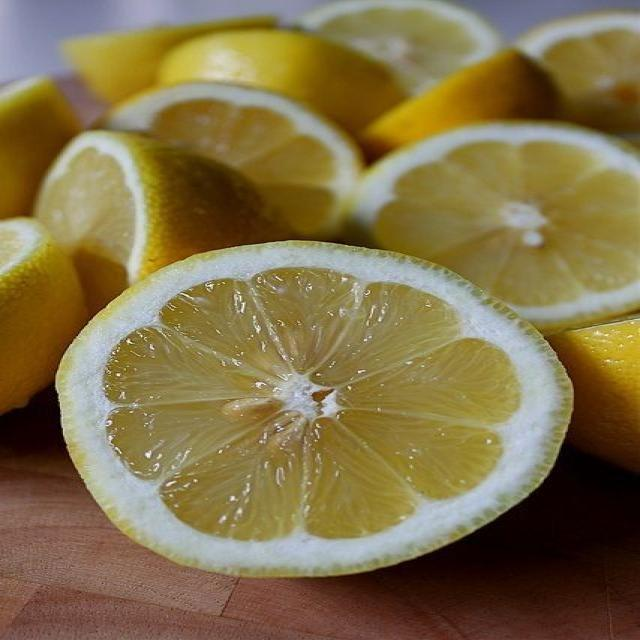lemon: (57, 241, 571, 575), (353, 122, 639, 330), (36, 131, 284, 310), (105, 82, 361, 238), (159, 29, 404, 131), (359, 49, 557, 156), (299, 0, 502, 92), (62, 16, 275, 101), (0, 218, 86, 413), (518, 10, 639, 133), (549, 316, 639, 472), (0, 77, 79, 218)
